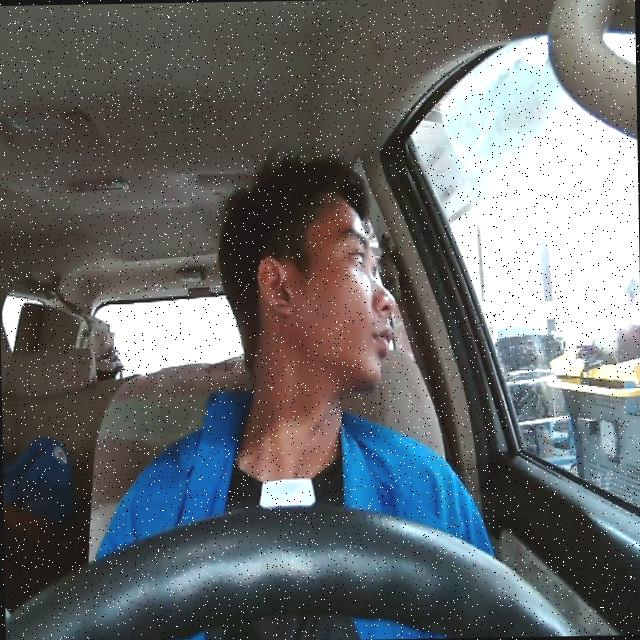seeing_right: (253, 190, 399, 392)
